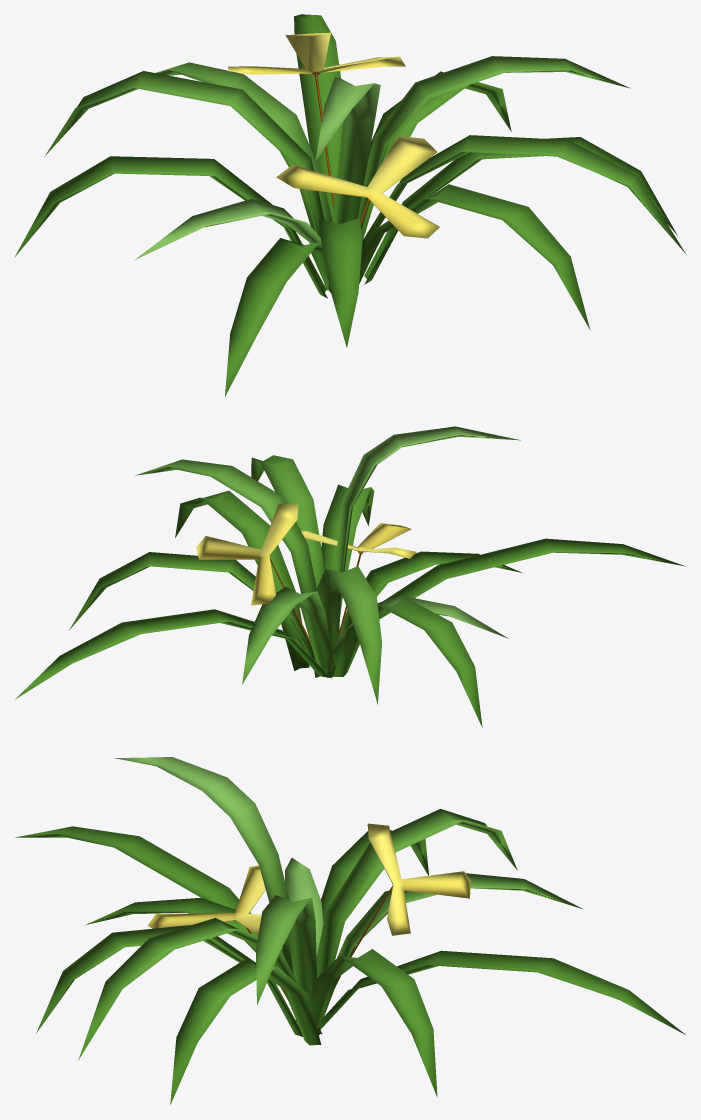
The picture shows the model from 3 angles, top to bottom: view 1: azimuth 30°, elevation 25°; view 2: azimuth 150°, elevation 25°; view 3: azimuth 270°, elevation 25°; orthographic projection. The views are drawn at different scales.
Visible parts, largest first — view 1: fp22; view 2: fp22; view 3: fp22.
Part boxes in pixels (box(x1,y1,x2,y2)): fp22: box(14, 14, 686, 396); fp22: box(15, 426, 685, 727); fp22: box(15, 757, 685, 1104).
Bounding box in the file's own units: 108 × 49.68 × 129.
